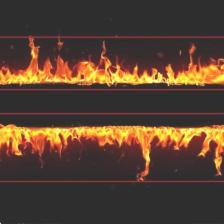fire: (0, 112, 224, 182), (0, 36, 224, 90)
